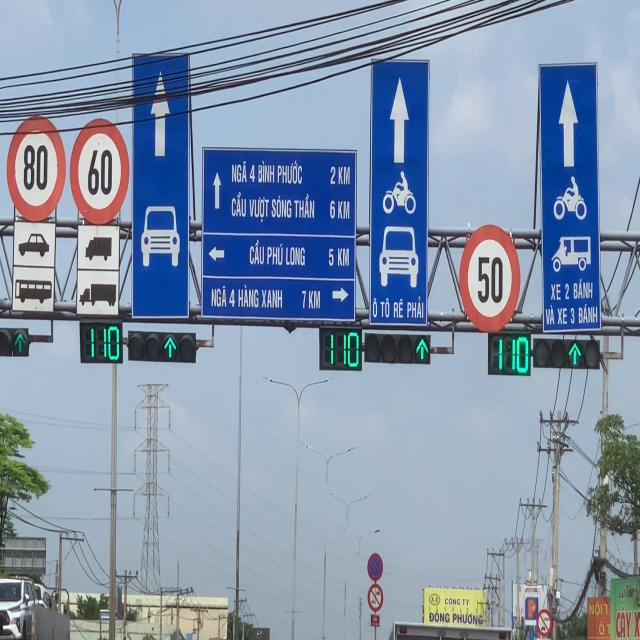Cam con lai: (367, 582, 384, 612), (536, 609, 552, 639)
Cam dung va do: (366, 552, 384, 582)
Toc do toi da: (459, 225, 521, 334), (6, 113, 66, 219), (70, 114, 128, 222)
